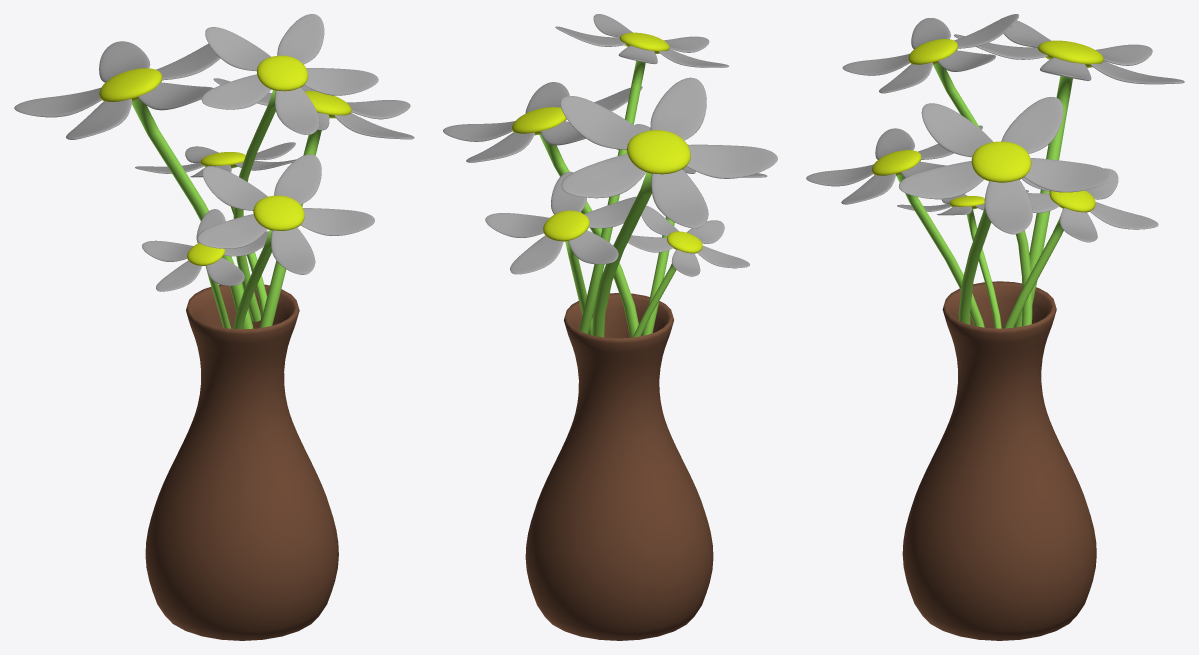
File: pot a fleurs.fbx
3 renders of one model, left to right at view 1: azimuth 30°, elevation 25°; view 2: azimuth 150°, elevation 25°; view 3: azimuth 270°, elevation 25°, orthographic. The views are drawn at different scales.
Parts seen in each view (by area): view 1: NurbsPath, Cube.005, Cube.003, Cube.002, Cube.006, Cube.001, Cube.004; view 2: NurbsPath, Cube.002, Cube.004, Cube.001, Cube.005, Cube.006, Cube.003; view 3: NurbsPath, Cube.001, Cube.002, Cube.005, Cube.003, Cube.004, Cube.006.
Boxes of the visible parts, bbox=[...] form: NurbsPath: bbox=[145, 284, 338, 640]; Cube.005: bbox=[201, 14, 378, 321]; Cube.003: bbox=[197, 154, 374, 329]; Cube.002: bbox=[14, 41, 253, 329]; Cube.006: bbox=[142, 209, 268, 328]; Cube.001: bbox=[213, 78, 414, 327]; Cube.004: bbox=[135, 142, 296, 317]; NurbsPath: bbox=[525, 293, 713, 640]; Cube.002: bbox=[560, 77, 777, 337]; Cube.004: bbox=[485, 171, 648, 335]; Cube.001: bbox=[443, 82, 642, 337]; Cube.005: bbox=[555, 14, 728, 333]; Cube.006: bbox=[628, 205, 749, 337]; Cube.003: bbox=[617, 124, 767, 335]; NurbsPath: bbox=[902, 281, 1096, 640]; Cube.001: bbox=[899, 97, 1111, 324]; Cube.002: bbox=[954, 18, 1184, 327]; Cube.005: bbox=[842, 14, 1032, 326]; Cube.003: bbox=[806, 125, 984, 327]; Cube.004: bbox=[1004, 168, 1158, 328]; Cube.006: bbox=[897, 190, 1028, 328].
Size of the model in its own units: 330 by 540 by 316.
